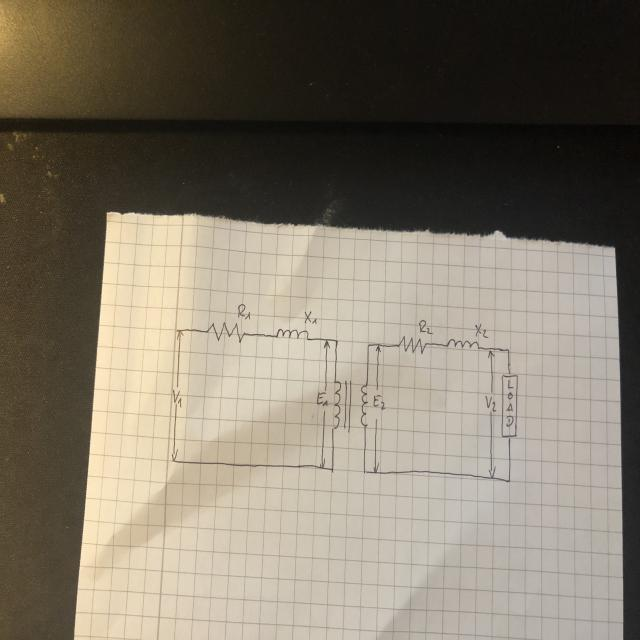inductor: (275, 327, 310, 341), (446, 338, 480, 352)
junction: (334, 338, 339, 346), (366, 342, 371, 350), (330, 466, 335, 474), (506, 477, 511, 485), (506, 346, 511, 354), (362, 468, 368, 474)
resistor: (501, 373, 518, 438), (206, 321, 247, 343), (397, 335, 426, 356)
terminal: (176, 327, 184, 335), (170, 457, 177, 465)
text: (506, 378, 514, 428), (236, 302, 251, 320), (484, 394, 498, 413), (372, 393, 386, 411), (303, 309, 318, 325), (418, 319, 432, 336), (171, 389, 183, 408), (474, 323, 489, 338), (316, 391, 329, 407)
transformer: (331, 379, 370, 434)
